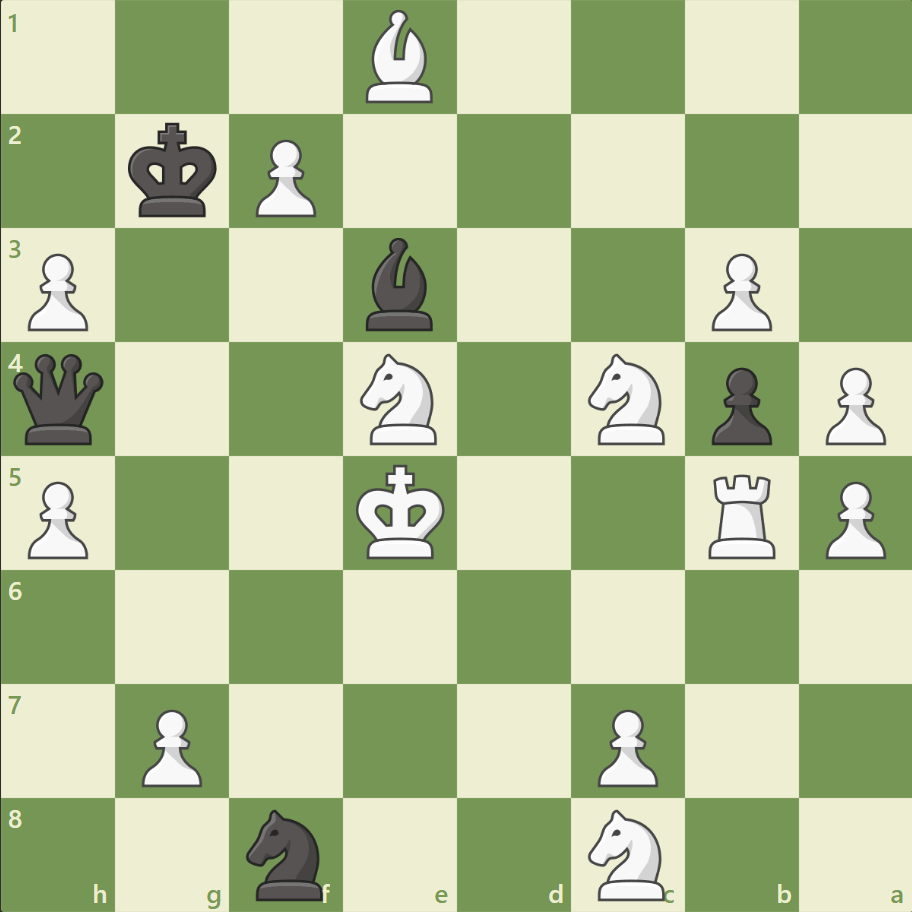B: (358, 6, 442, 109)
K: (351, 458, 451, 566)
N: (351, 348, 449, 450), (579, 802, 676, 904), (579, 348, 676, 450)
P: (133, 700, 208, 791), (20, 473, 95, 564), (701, 246, 776, 337), (20, 246, 95, 337), (247, 132, 322, 223), (588, 700, 662, 791), (815, 473, 889, 564), (815, 359, 889, 450)
R: (700, 466, 783, 563)
b: (358, 233, 442, 336)
k: (124, 117, 224, 225)
n: (238, 802, 335, 904)
p: (701, 359, 776, 450)
q: (10, 349, 109, 449)
